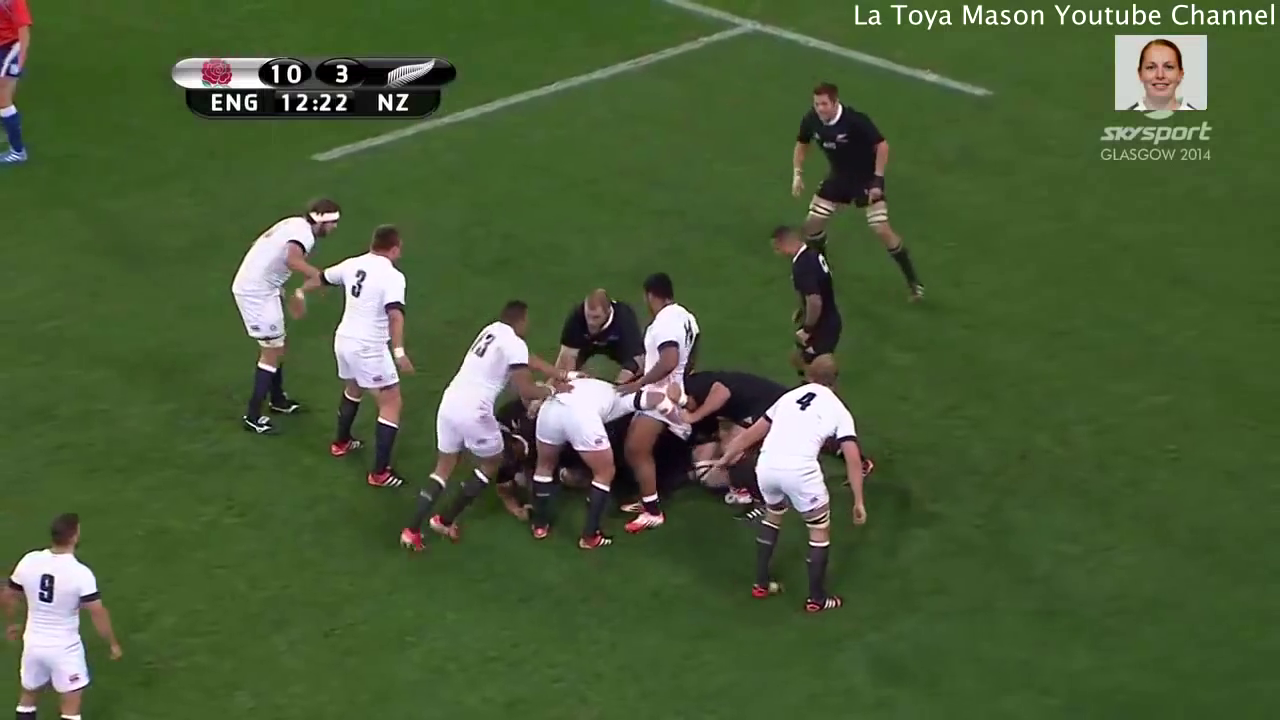player: (716, 344, 879, 622), (393, 296, 538, 567), (285, 216, 422, 496), (786, 76, 932, 305), (225, 190, 346, 455), (1, 507, 125, 720), (617, 263, 708, 544), (524, 359, 637, 556), (765, 219, 850, 388), (677, 360, 810, 446), (549, 276, 649, 376)
